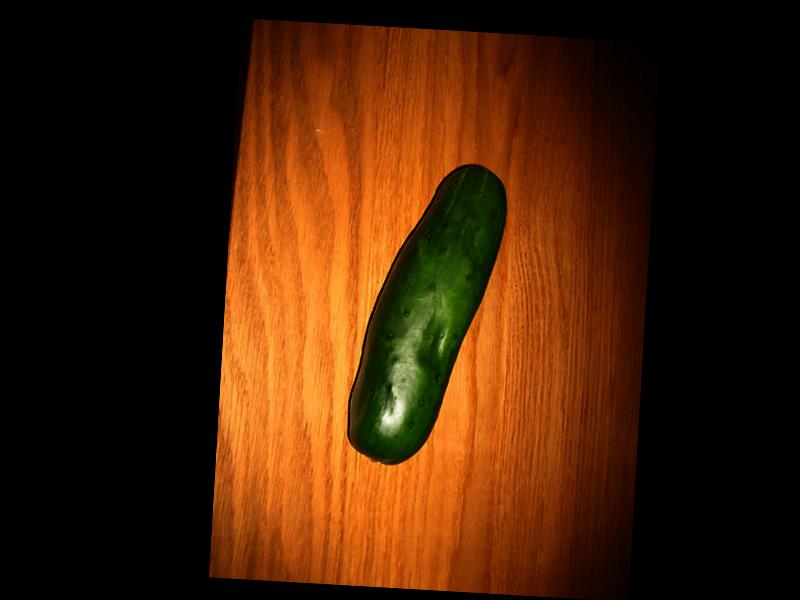Cucumber: (345, 157, 507, 466)
